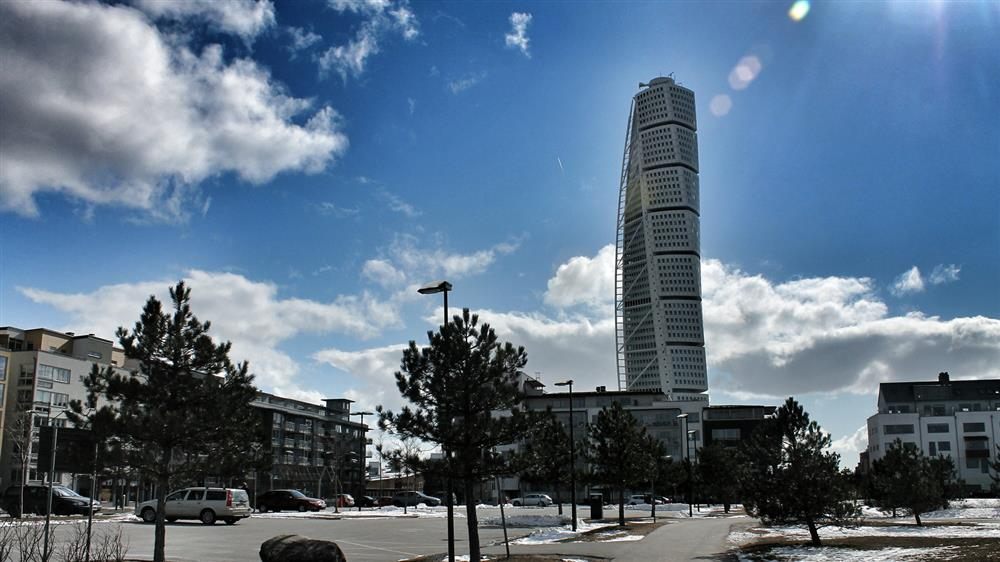turinng_torso: (612, 71, 710, 395)
